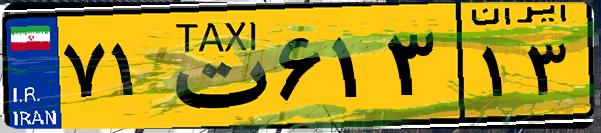1: (330, 28, 385, 110), (475, 38, 525, 113), (110, 28, 158, 98)
3: (385, 28, 445, 110), (525, 38, 570, 115)
6: (270, 28, 330, 110)
7: (57, 26, 110, 100)
ت: (158, 12, 270, 120)
